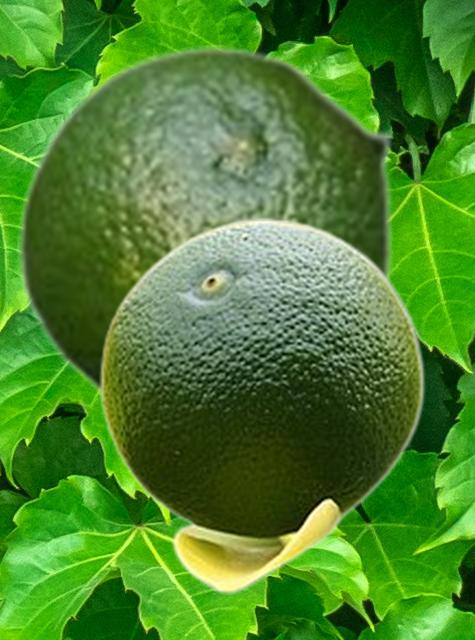calamansi: (17, 45, 395, 400), (99, 218, 424, 593)
